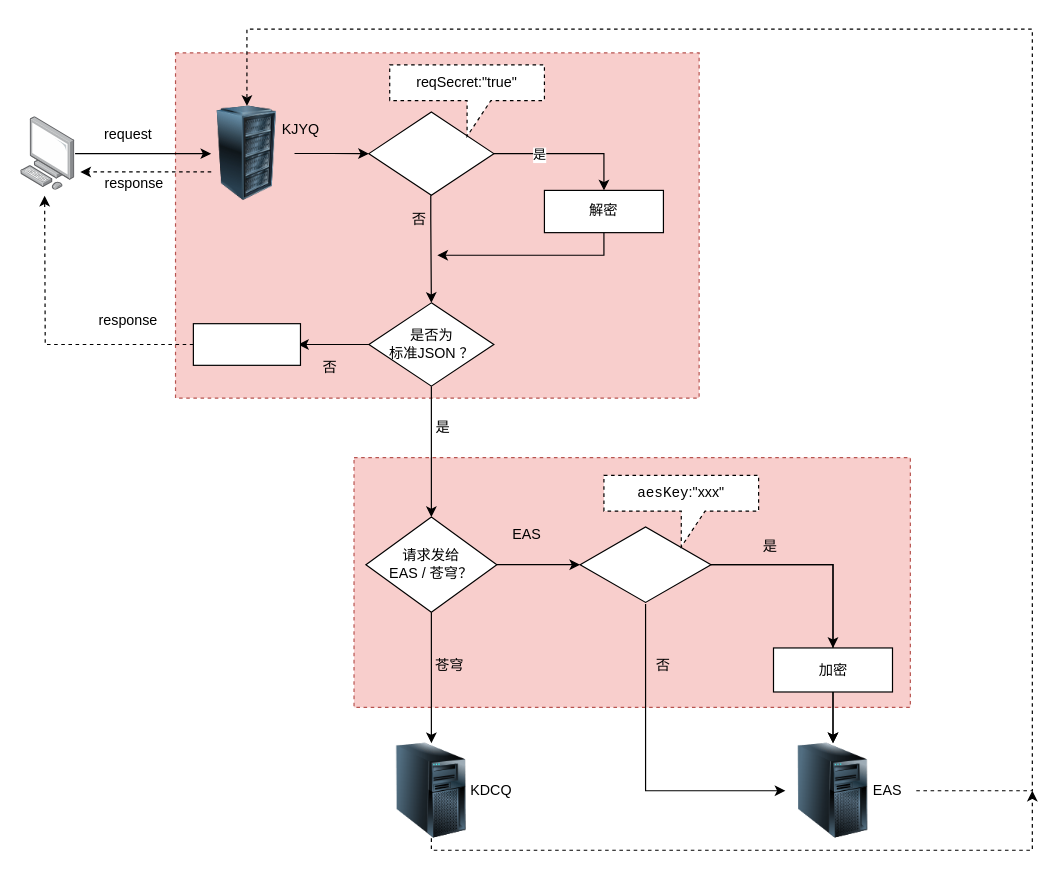
Image size: 1063x881. Some labels were removed from this diagram. The shapes that lost their labels are listed below. From the top down, each one's centre as x and y in pixels, then its label:
[431,153]: 是否为加 密报文？
[246,343]: 请求错误，非标准json ！
[645,564]: 是否要加 密传输?
